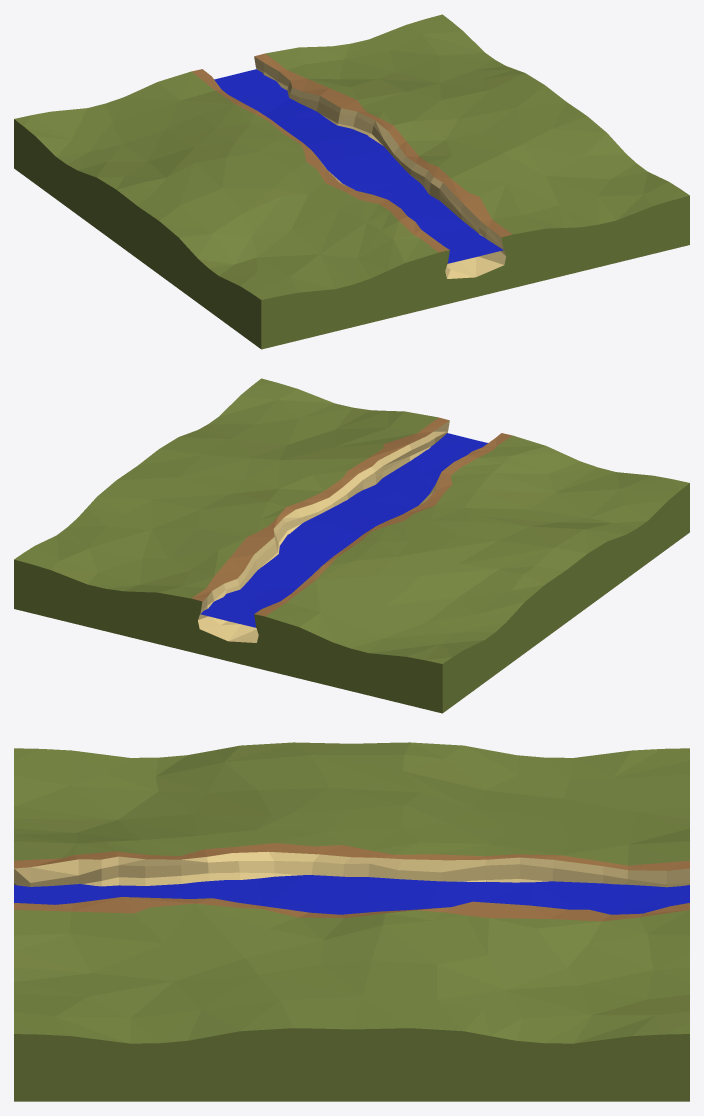
The model's file is Terrian_River_Straight_Flat-02.fbx.
3 renders of one model, top to bottom at view 1: azimuth 30°, elevation 25°; view 2: azimuth 150°, elevation 25°; view 3: azimuth 270°, elevation 25°, orthographic. The views are drawn at different scales.
Visible parts, largest first — view 1: Terrian_River_Straight_Flat-02; view 2: Terrian_River_Straight_Flat-02; view 3: Terrian_River_Straight_Flat-02.
Part boxes in pixels (x1,y1,x2,y2): Terrian_River_Straight_Flat-02: (14, 14, 689, 349); Terrian_River_Straight_Flat-02: (14, 378, 689, 713); Terrian_River_Straight_Flat-02: (14, 742, 689, 1101).
Size of the model in its own units: 3600 by 488 by 3600.
